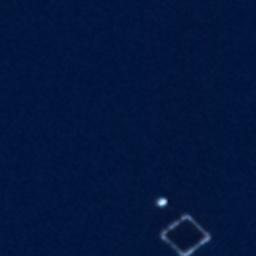square_solid: (155, 208, 215, 256)
